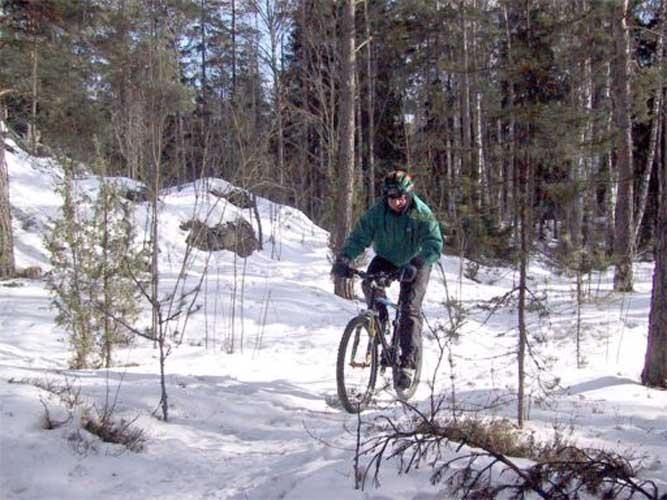person: (333, 169, 447, 387)
